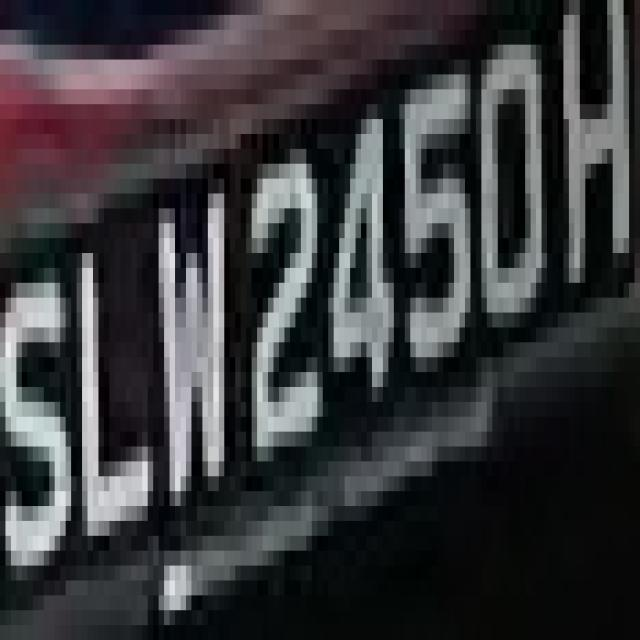0: (470, 45, 547, 342)
2: (230, 89, 339, 521)
4: (312, 74, 405, 432)
5: (383, 30, 476, 387)
H: (564, 0, 634, 313)
L: (66, 164, 153, 566)
S: (11, 223, 77, 610)
W: (131, 149, 246, 491)
